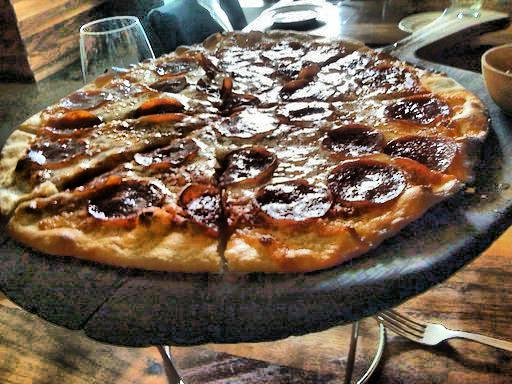pizza: (2, 30, 475, 260)
